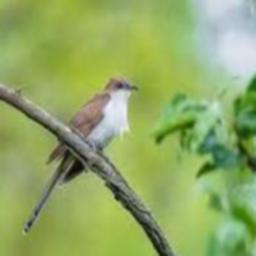Cuckoo: (22, 76, 139, 234)
